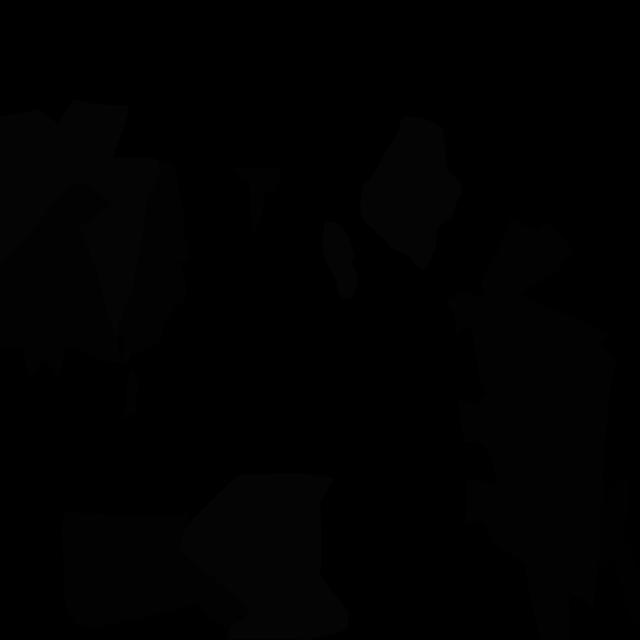cardboard: (445, 292, 616, 608), (0, 185, 122, 380), (61, 512, 250, 628), (118, 160, 189, 363), (481, 218, 575, 295), (523, 564, 570, 640), (231, 166, 282, 234), (123, 367, 139, 420)
rigid_plastic: (598, 474, 640, 637)
soft_plastic: (177, 473, 348, 640), (58, 99, 160, 340), (360, 116, 462, 269), (0, 109, 70, 268), (322, 221, 359, 300)
